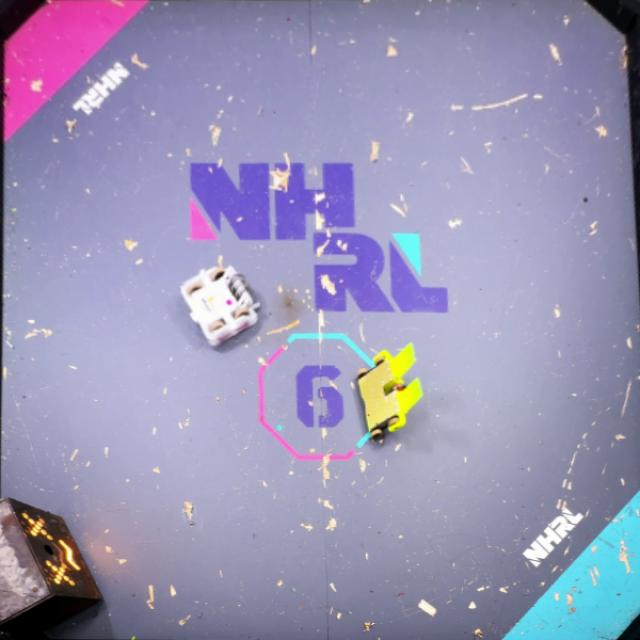housebot: (0, 496, 97, 640)
robot: (181, 252, 259, 348), (359, 342, 424, 442)
